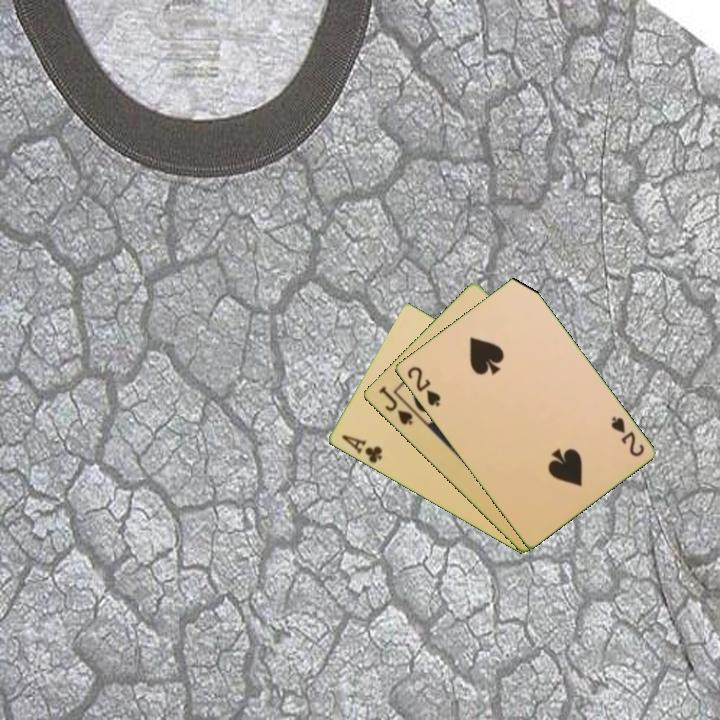2s: (607, 413, 647, 460), (403, 363, 443, 409)
Ac: (338, 431, 385, 466)
Js: (375, 382, 416, 428)
